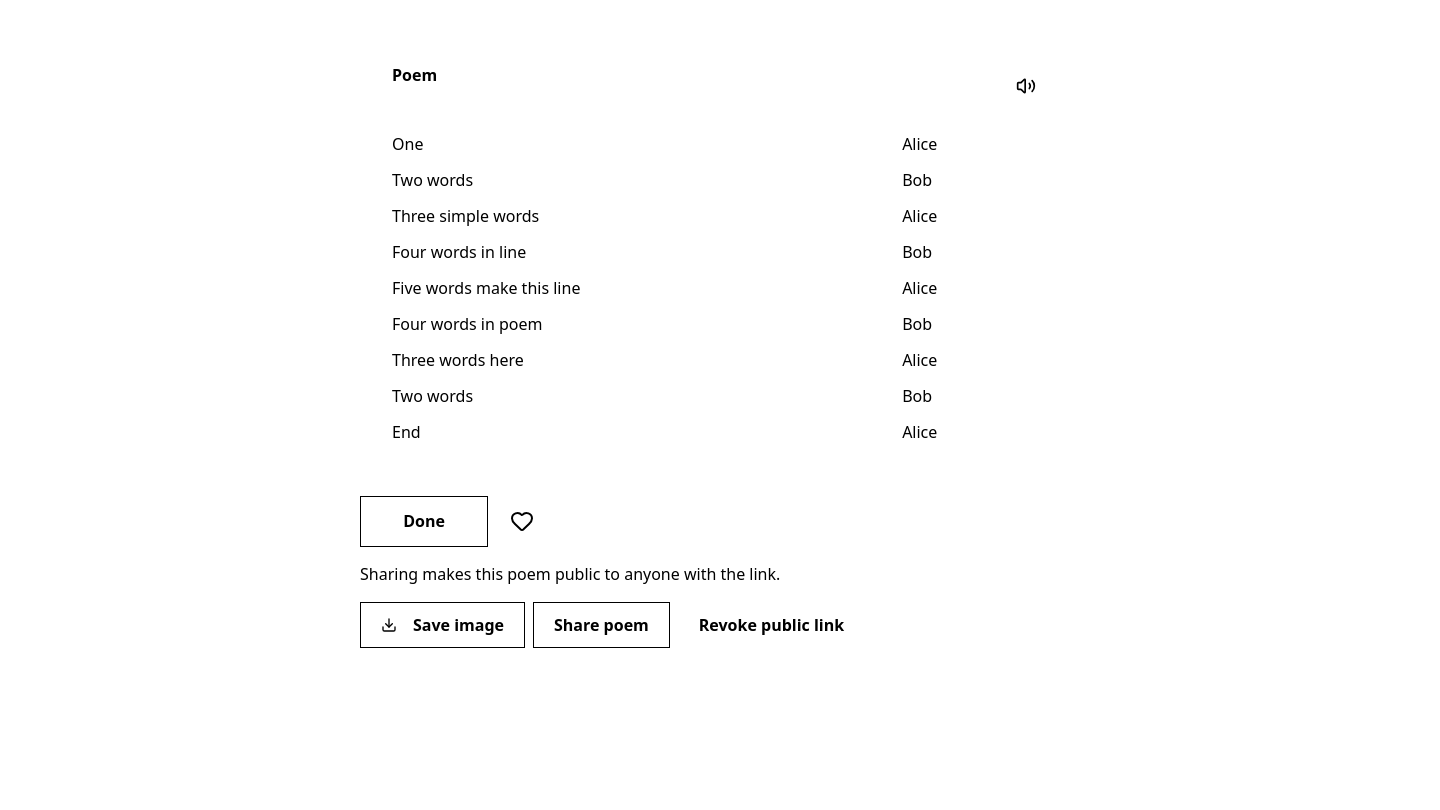
Test: PoemDisplay component › actions › copies URL to clipboard when Share button clicked
Click the button "Share poem": (601,625) [533,602,670,648]
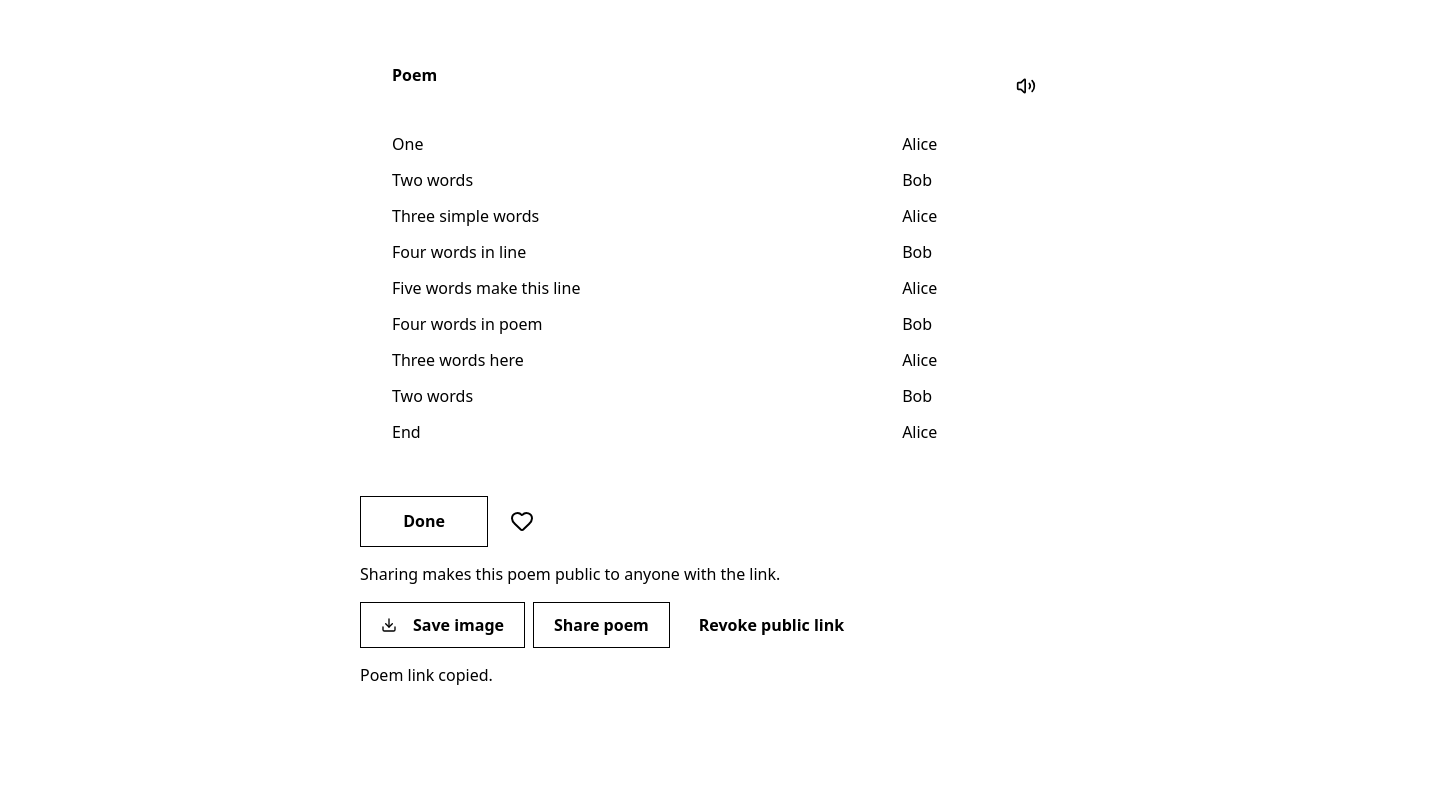
Expected: the text "Poem link copied." is shown, [360,664,493,686]
